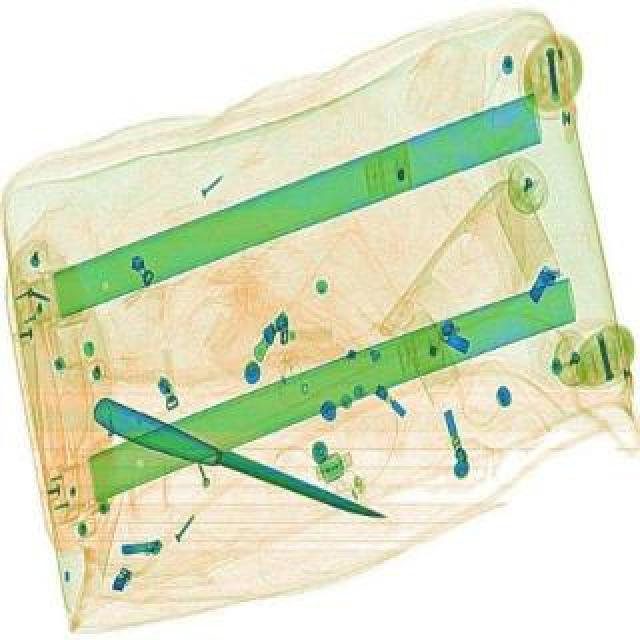knife: (88, 394, 392, 532)
